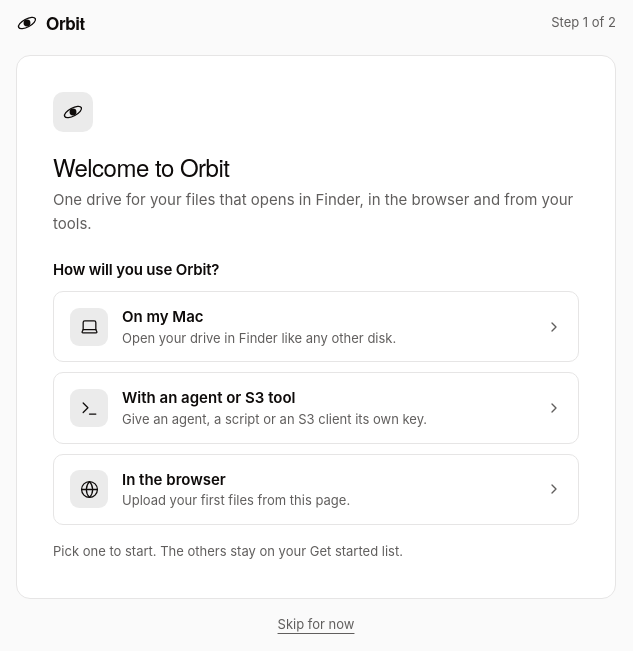
it: in the browser › uploads the chosen files into the first ready drive, one at a time, then opens the files
Later steps or results of the test are not shown.
Click the button "In the browser Upload your first files from this page.".
click(316, 489)  # box [53,454,579,525]
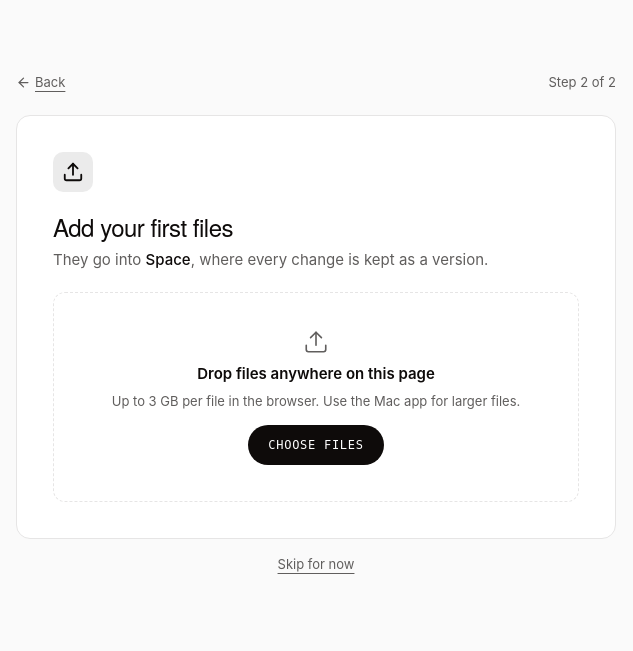
Expected: the heading "Add your first files" is shown, [53,209,233,244]
